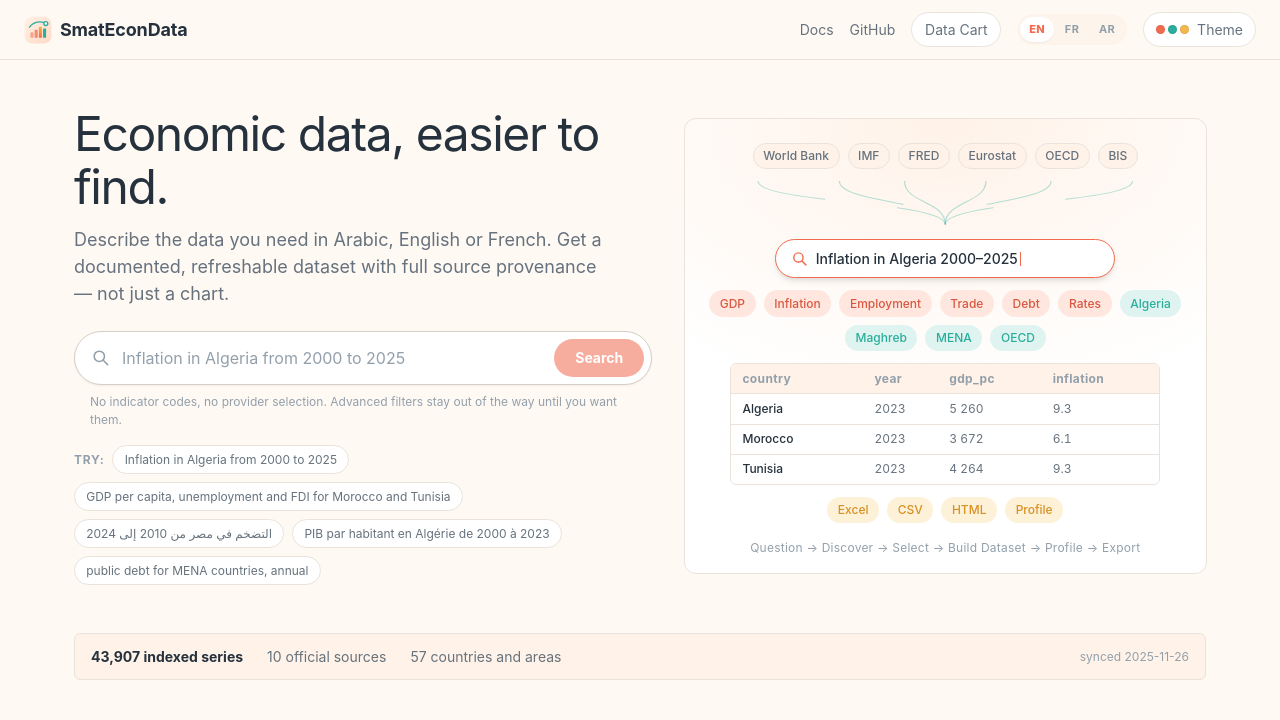
Test: HomePage — zero-friction search › explains an empty result instead of dead-ending
In the search field: (332, 358) [122,338,542,378], type "inflation"
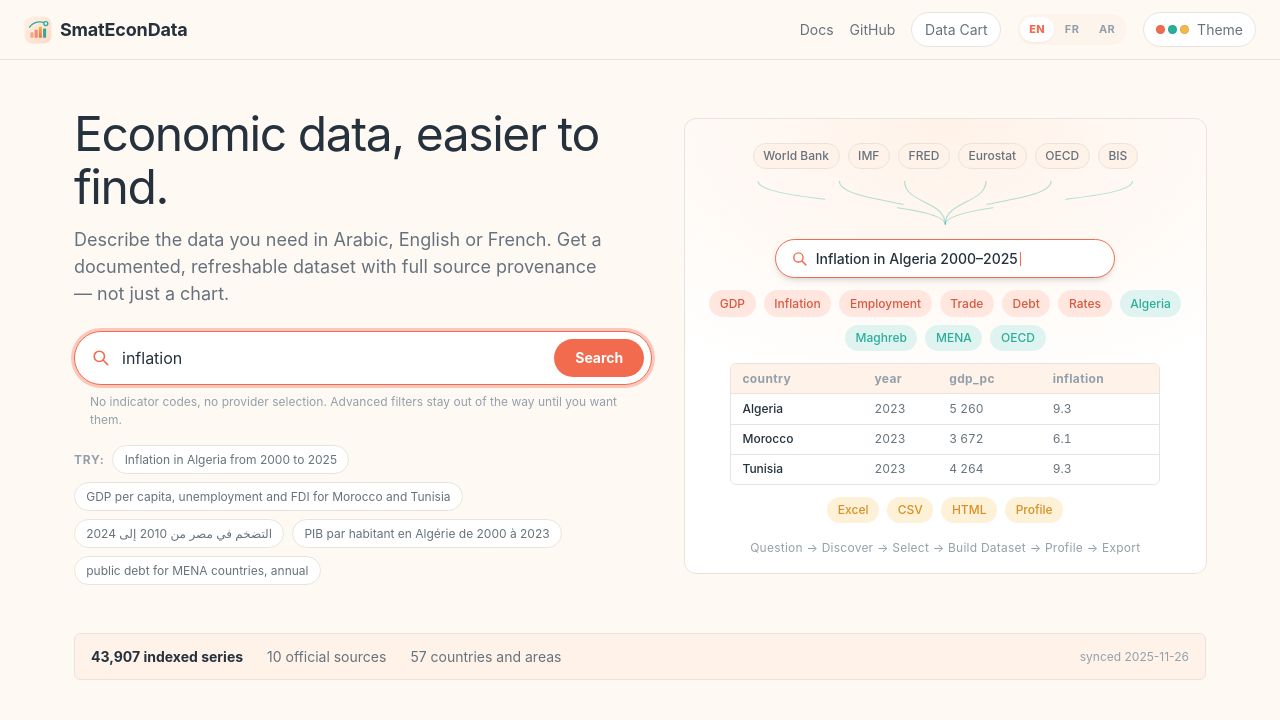
Click the button "Search": click(599, 358) [554,339,644,377]
(page scrolled)
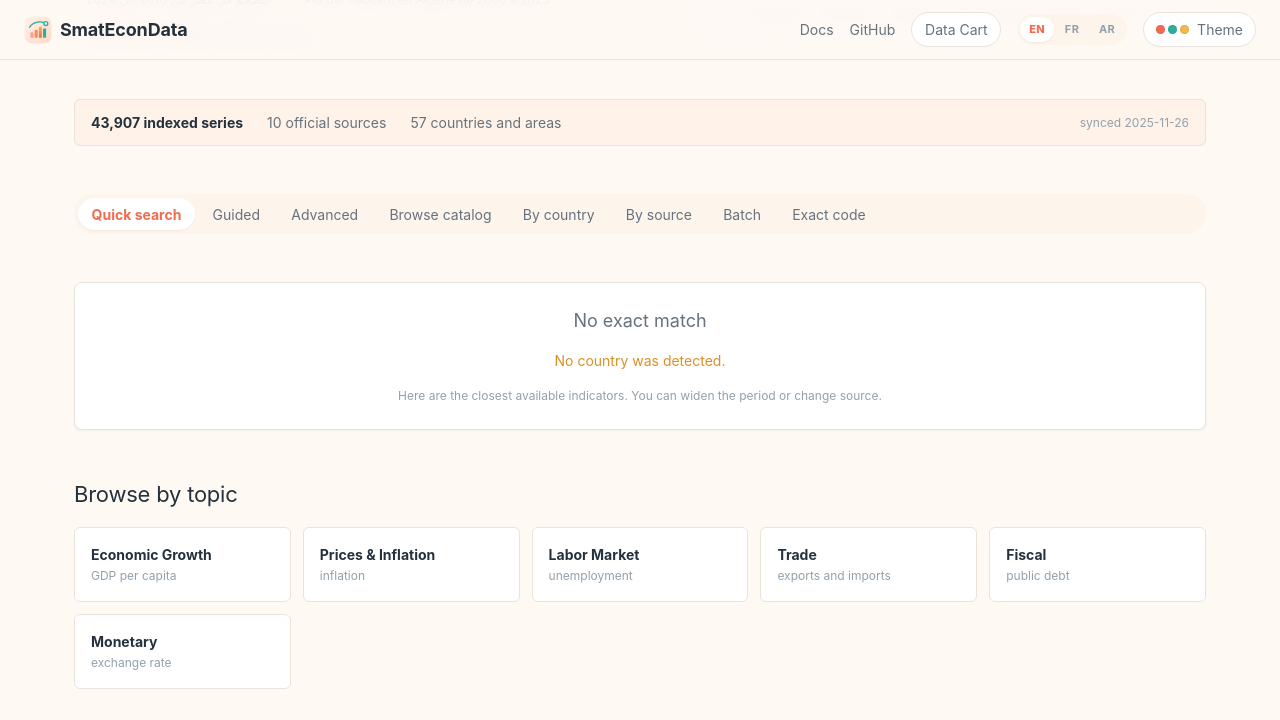
Expected: the text "No country was detected." is shown, [554,352,725,369]
